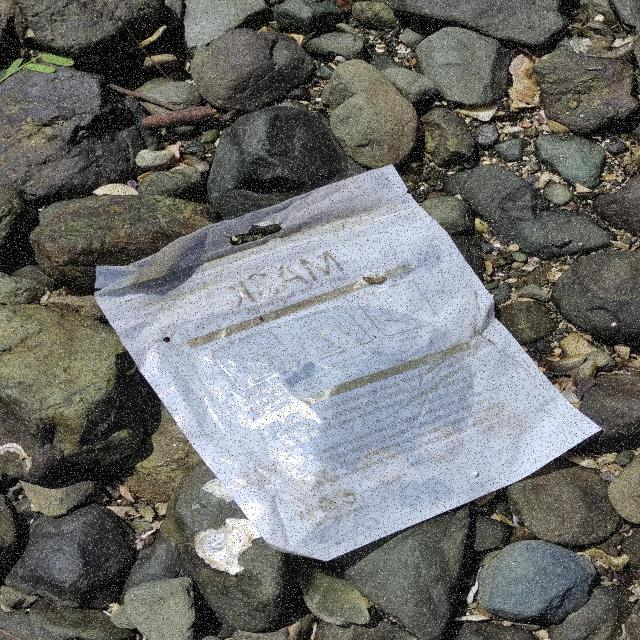plastic_waste: (94, 159, 612, 560)
